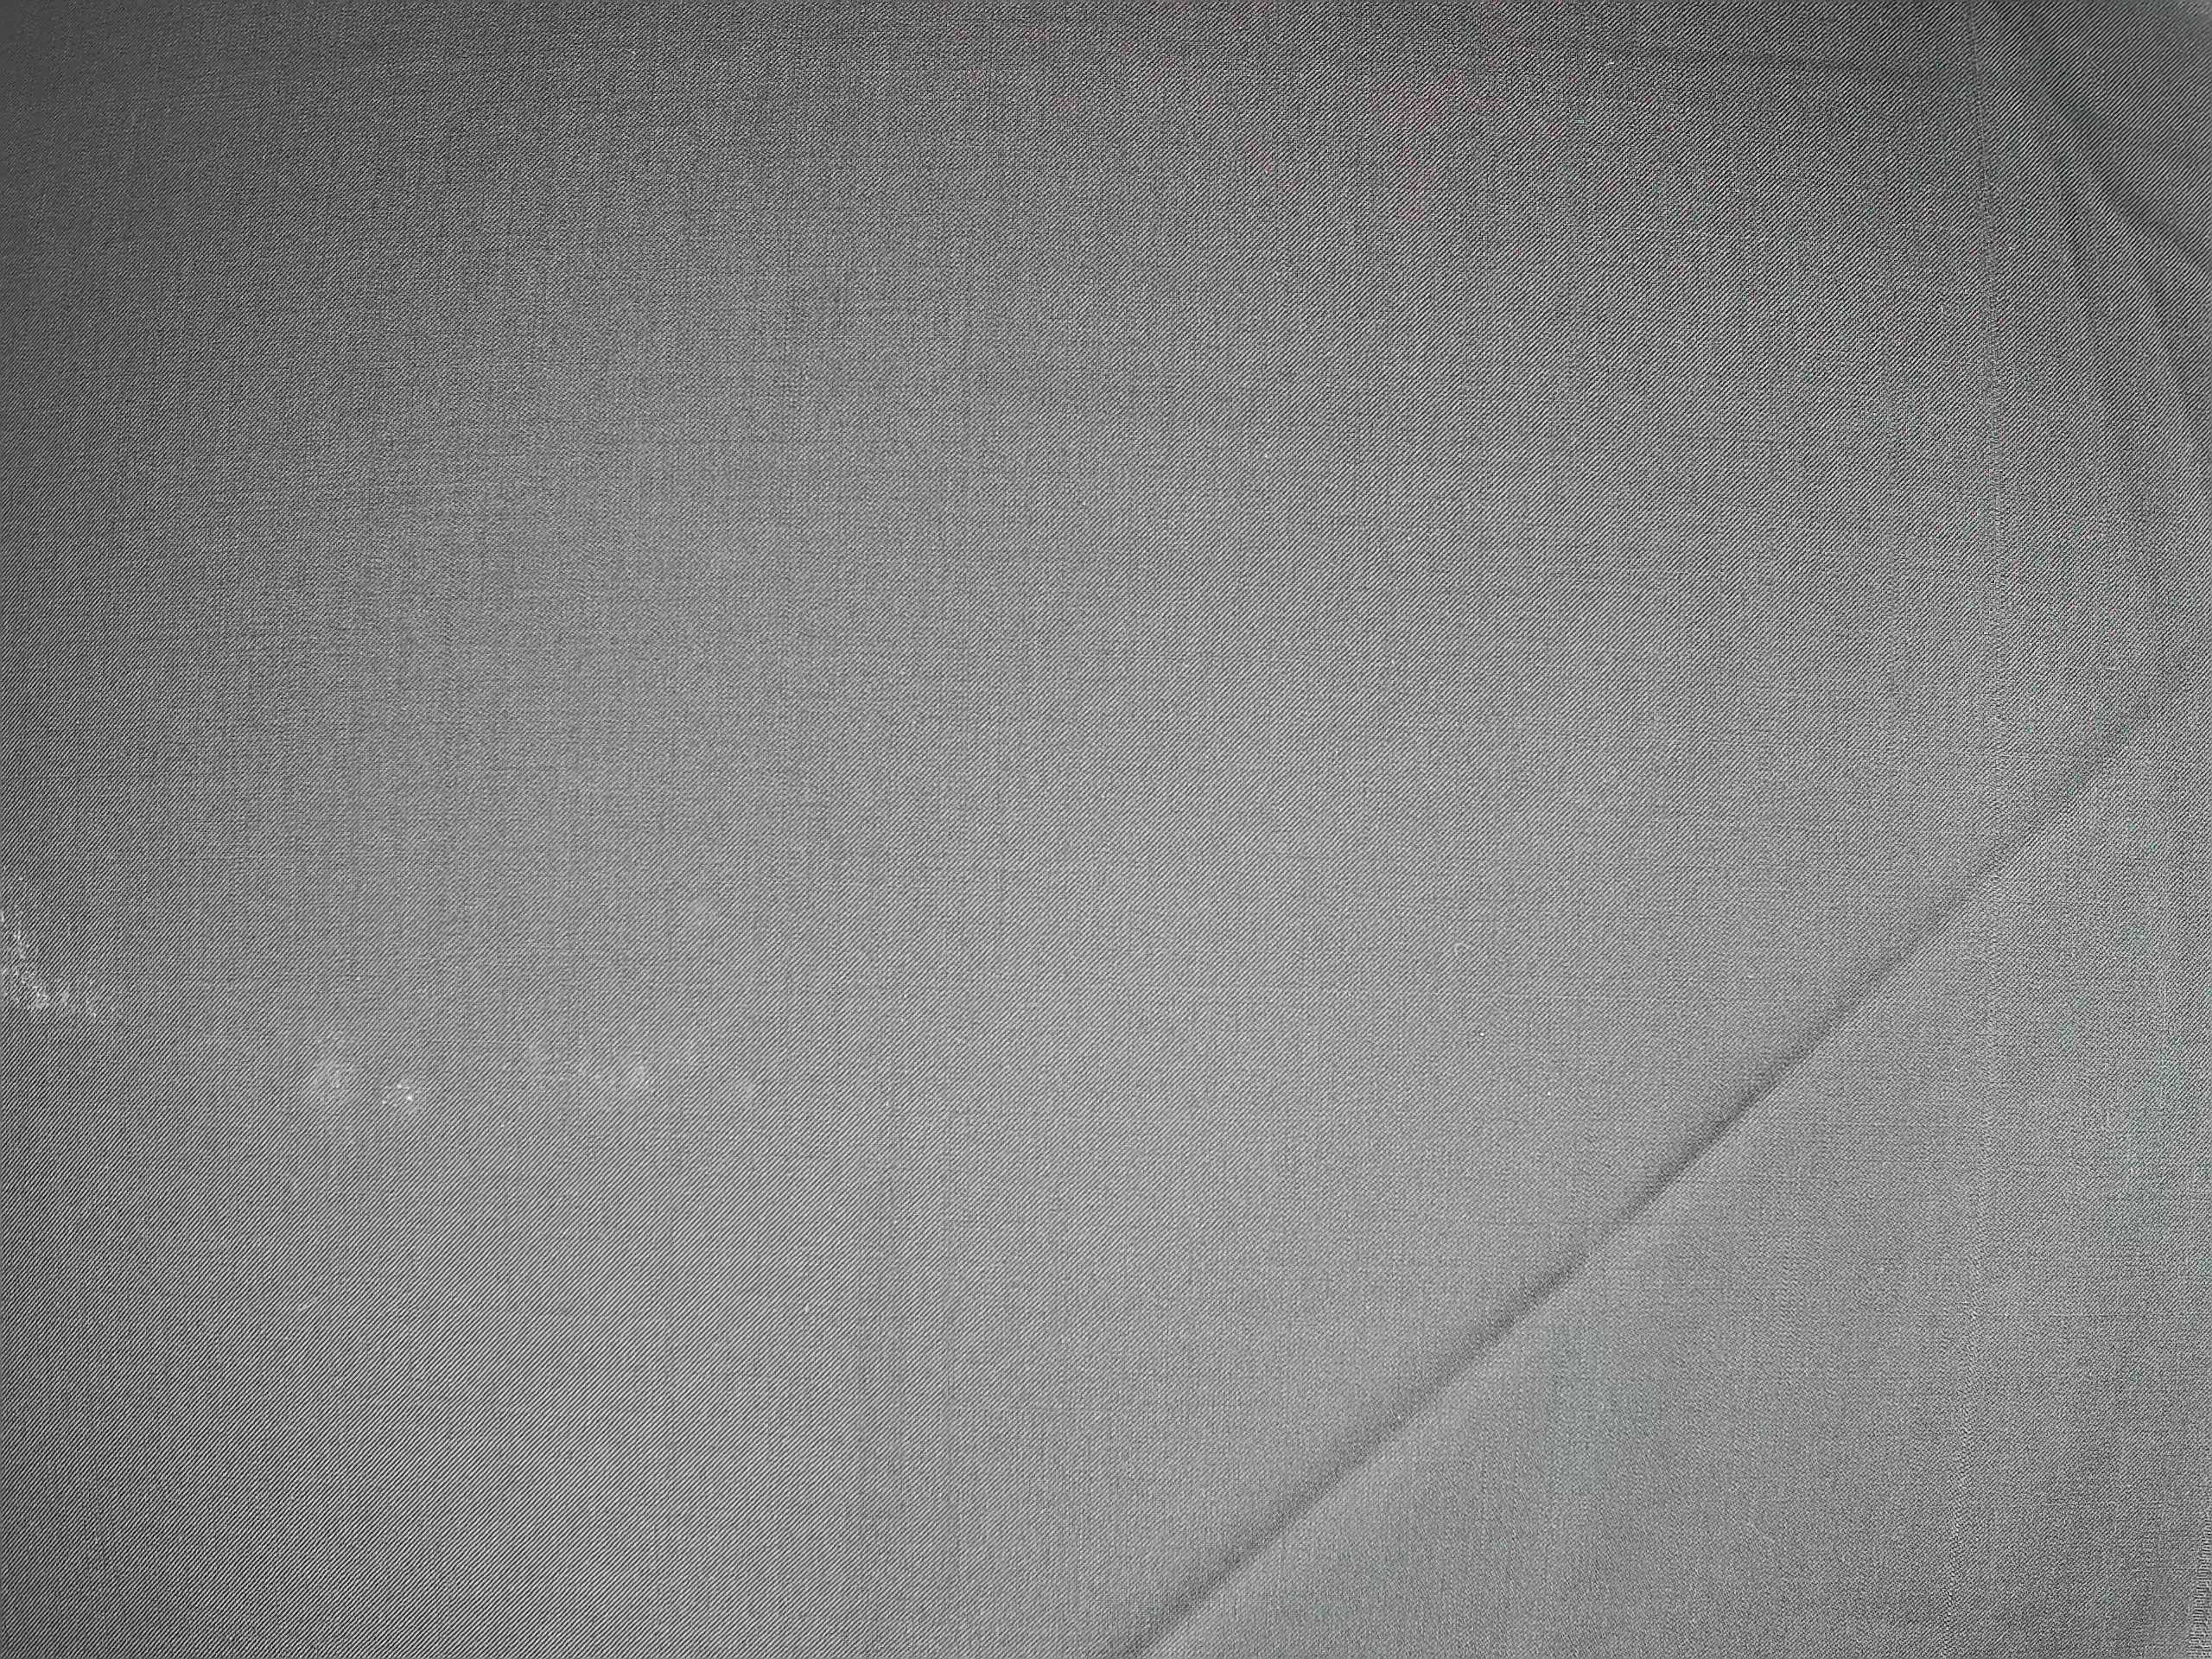lacking-warp: (1940, 7, 2003, 1647)
